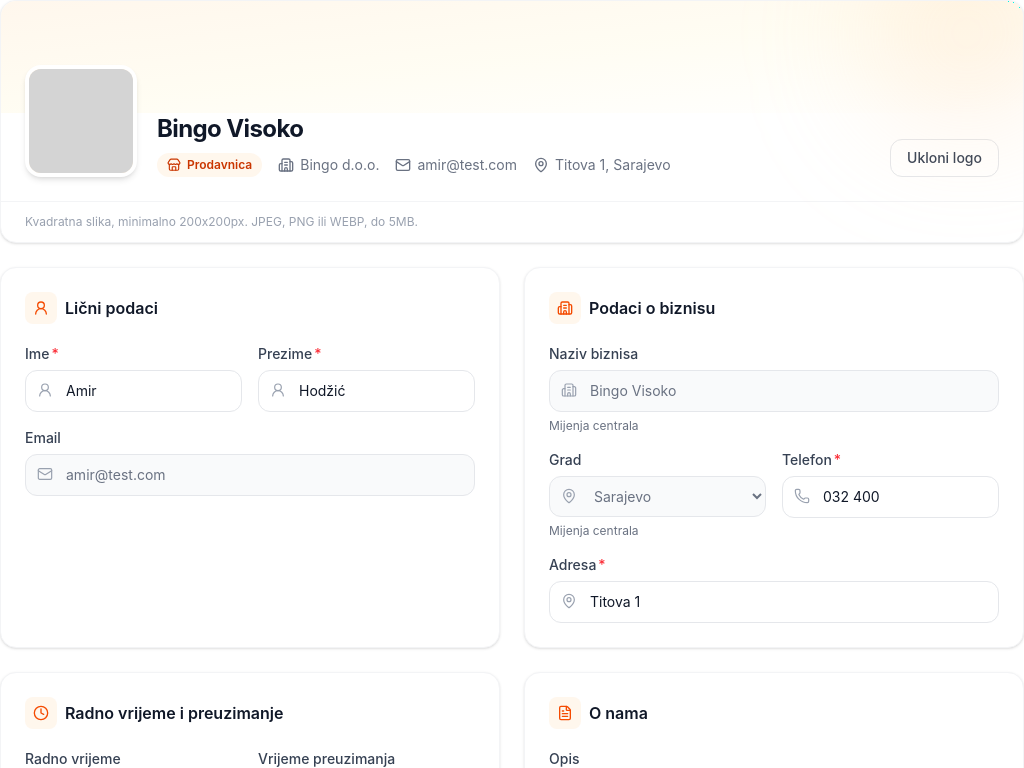
MyProfilePage for a branch › removes its own logo
Step 1. Click the button "Ukloni logo" → [944, 158], box [890,139,999,177]
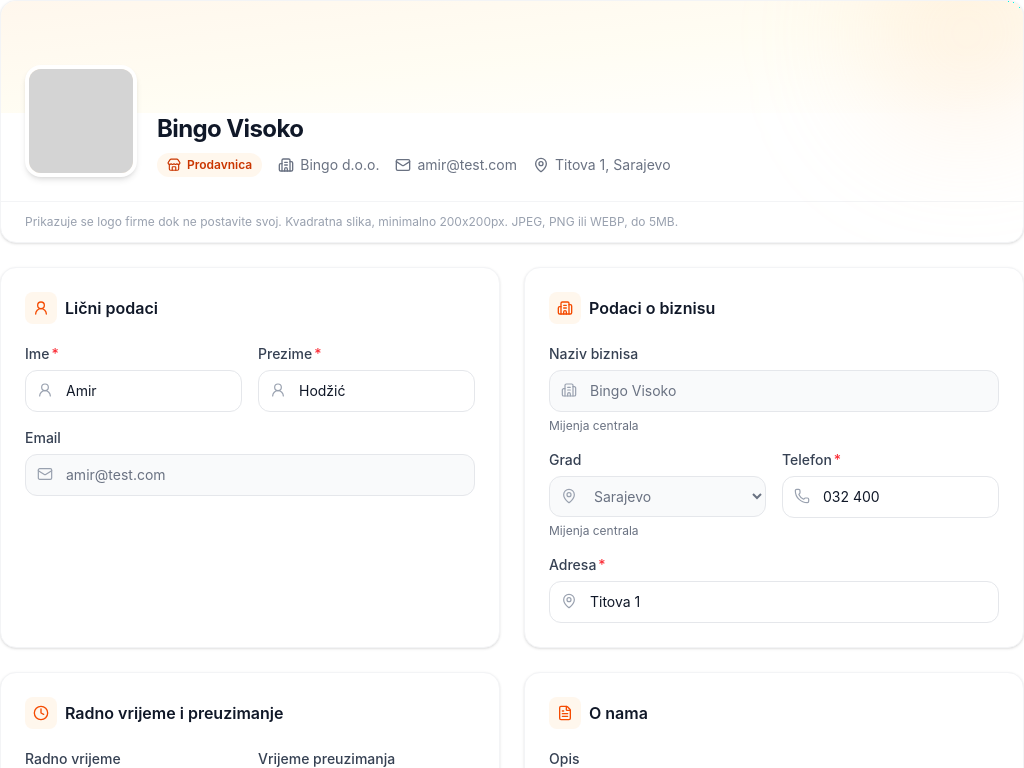
Check: the text "Prikazuje se logo firme dok ne postavite svoj." is shown, box [25,214,285,229]
